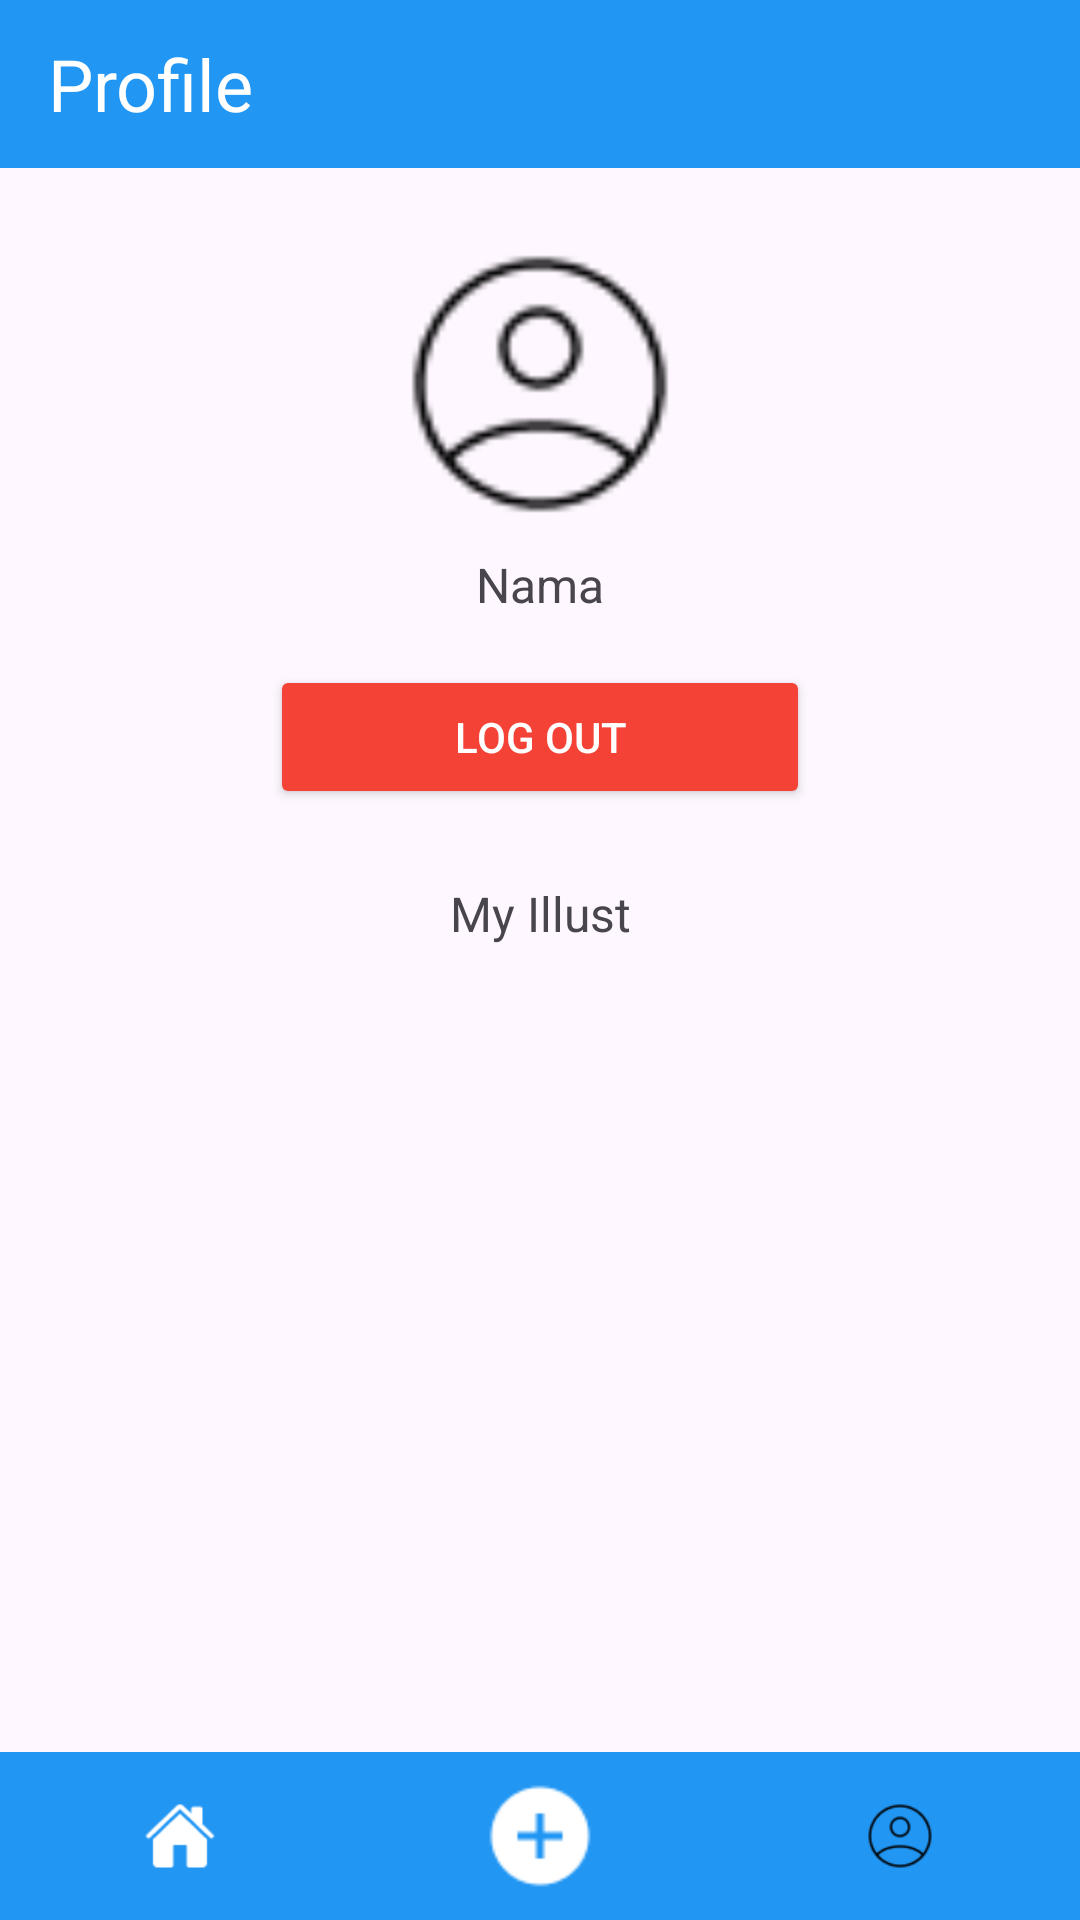

Icons on this 1080*1920 Android screen, each with its box as (x1, y1, x2, y2):
add: (489, 1785, 591, 1887)
home: (145, 1804, 215, 1868)
profile: (868, 1804, 932, 1868)
